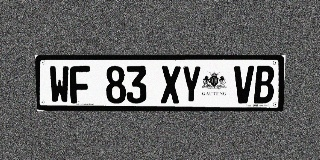3: (126, 66, 146, 103)
8: (106, 66, 126, 103)
B: (254, 66, 275, 103)
F: (70, 66, 90, 103)
V: (233, 66, 254, 103)
W: (49, 66, 70, 103)
X: (161, 66, 181, 103)
Y: (181, 66, 201, 103)
